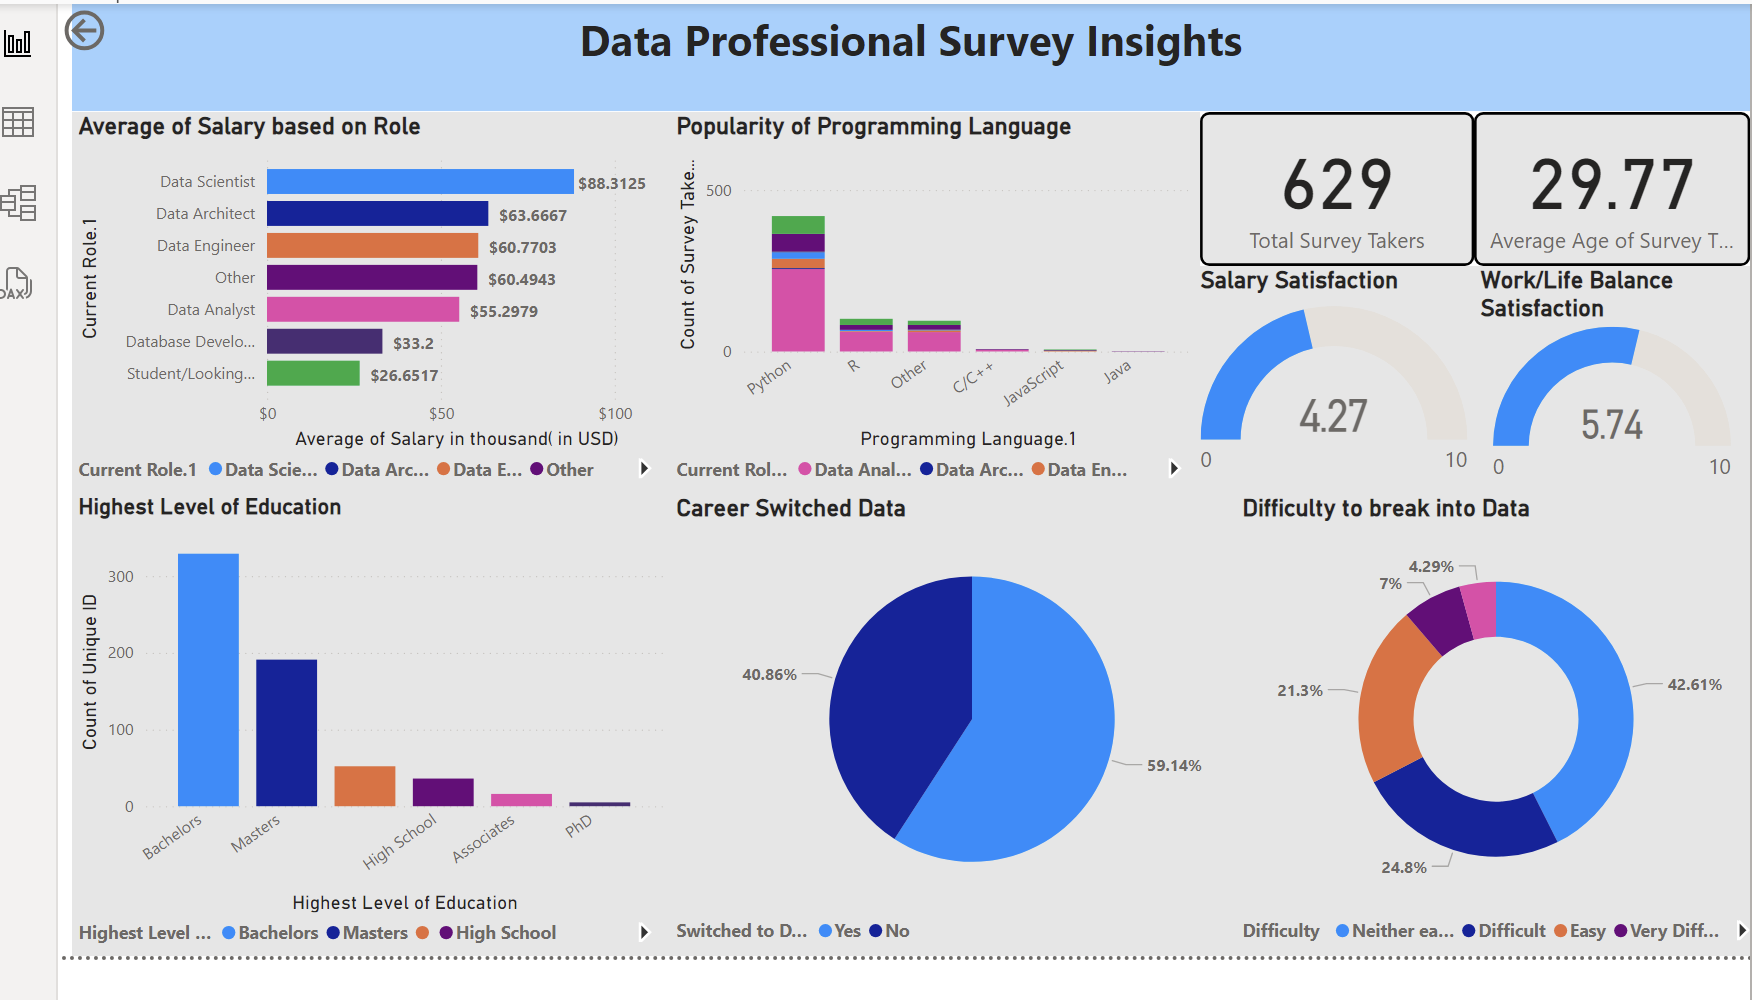

The page's visual inventory and layout, read from the dashboard file:
{"tool":"powerbi","page":{"name":"Page 1","canvas":[1280,720],"ordinal":0},"visuals":[{"type":"textbox","box":[10.7,0,1269.3,81.1],"z":0},{"type":"card","fields":{"Values":["Avg(Data Professional Survey.Age)"]},"box":[1071.2,81.7,208.8,116.5],"z":1000},{"type":"card","fields":{"Values":["CountNonNull(Data Professional Survey.Unique ID)"]},"box":[863.9,81.7,207.3,116.5],"z":2000},{"type":"barChart","title":"Average of Salary based on Role","fields":{"Category":["Data Professional Survey.Current Role.1"],"Y":["Avg(Data Professional Survey.Salary in thousand( in USD))"],"Series":["Data Professional Survey.Current Role.1"]},"box":[10.6,81.7,452.4,289],"z":3000},{"type":"columnChart","title":"Popularity of Programming Language","fields":{"Category":["Data Professional Survey.Programming Language.1"],"Y":["Count(Data Professional Survey.Unique ID)"],"Series":["Data Professional Survey.Current Role.1"]},"box":[463,81.7,400.9,289],"z":4000},{"type":"columnChart","title":"Highest Level of Education","fields":{"Y":["Count(Data Professional Survey.Unique ID)"],"Category":["Data Professional Survey.Highest Level of Education"],"Series":["Data Professional Survey.Highest Level of Education"]},"box":[10.6,370.7,452.4,351],"z":5000},{"type":"actionButton","box":[0,0,100,40],"z":6000},{"type":"gauge","title":"Work/Life Balance Satisfaction","fields":{"Y":["Avg(Data Professional Survey.Work Life Balance Satisfaction)"],"MinValue":["Min(Data Professional Survey.Work Life Balance Satisfaction)1"],"MaxValue":["Max(Data Professional Survey.Work Life Balance Satisfaction)2"]},"box":[1071.2,198.2,208.8,172.5],"z":6001},{"type":"gauge","title":"Salary Satisfaction","fields":{"Y":["Avg(Data Professional Survey.Salary Satisfaction)"],"MinValue":["Min(Data Professional Survey.Salary Satisfaction)"],"MaxValue":["Max(Data Professional Survey.Salary Satisfaction)"]},"box":[859.4,198.2,211.8,172.5],"z":6002},{"type":"pieChart","title":"Career Switched Data","fields":{"Category":["Data Professional Survey.Switched to Data?"],"Y":["CountNonNull(Data Professional Survey.Switched to Data?)"]},"box":[463,370.7,456.9,349.5],"z":6003},{"type":"donutChart","title":"Difficulty to break into Data","fields":{"Category":["Data Professional Survey.Difficulty to break into Data"],"Y":["CountNonNull(Data Professional Survey.Unique ID)"]},"box":[891.2,370.7,393.4,349.5],"z":6004}]}

Visuals, with their boxes in screenshot pixels (x1, y1, x2, y2):
textbox: bbox=[91, 14, 1744, 119]
card - Avg(Data Professional Survey.Age): bbox=[1472, 120, 1744, 272]
card - CountNonNull(Data Professional Survey.Unique ID): bbox=[1202, 120, 1472, 272]
"Average of Salary based on Role" barChart: bbox=[91, 120, 680, 496]
"Popularity of Programming Language" columnChart: bbox=[680, 120, 1202, 496]
"Highest Level of Education" columnChart: bbox=[91, 496, 680, 953]
actionButton: bbox=[78, 14, 208, 66]
"Work/Life Balance Satisfaction" gauge: bbox=[1472, 272, 1744, 496]
"Salary Satisfaction" gauge: bbox=[1196, 272, 1472, 496]
"Career Switched Data" pieChart: bbox=[680, 496, 1275, 951]
"Difficulty to break into Data" donutChart: bbox=[1238, 496, 1750, 951]
